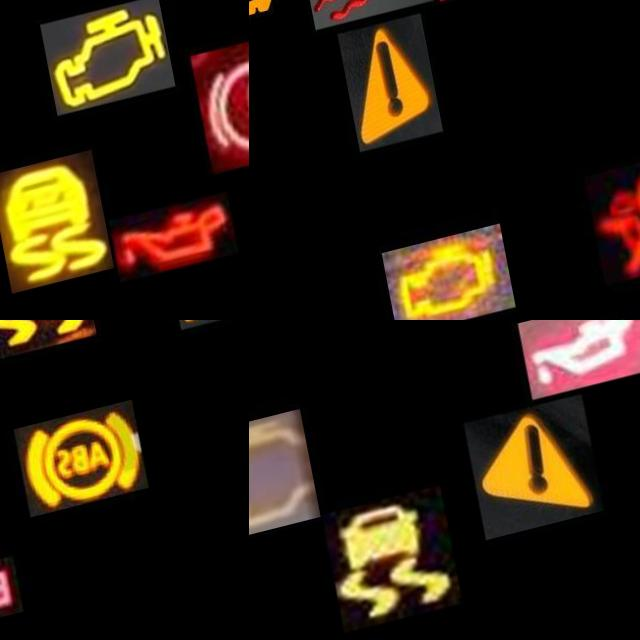Central Warning lamp: (445, 416, 581, 556), (331, 29, 432, 163), (147, 320, 248, 347)
Engine cooling system: (293, 0, 427, 40)
